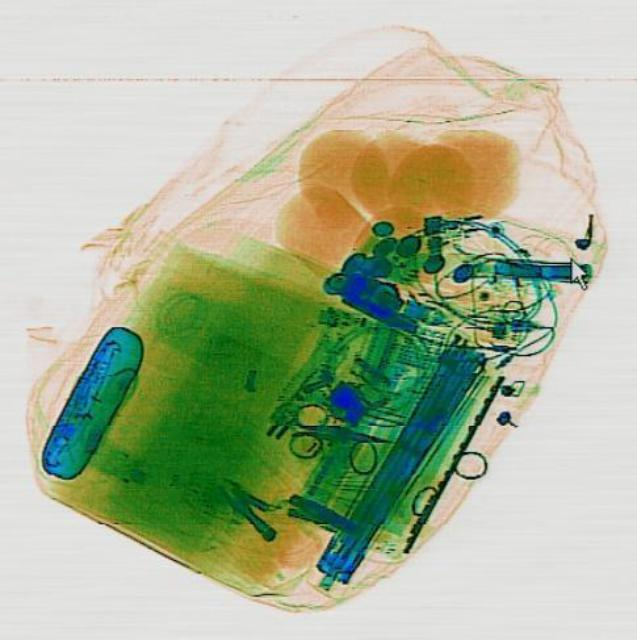Scissors: (285, 400, 392, 466)
